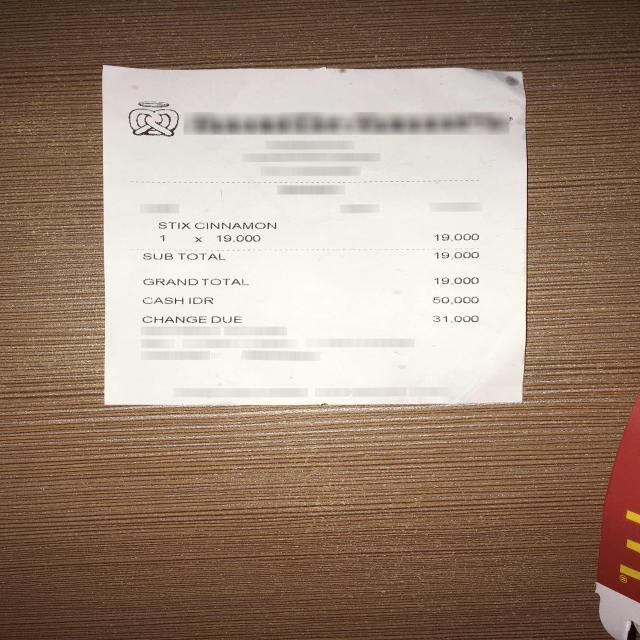kertas: (102, 66, 527, 405)
